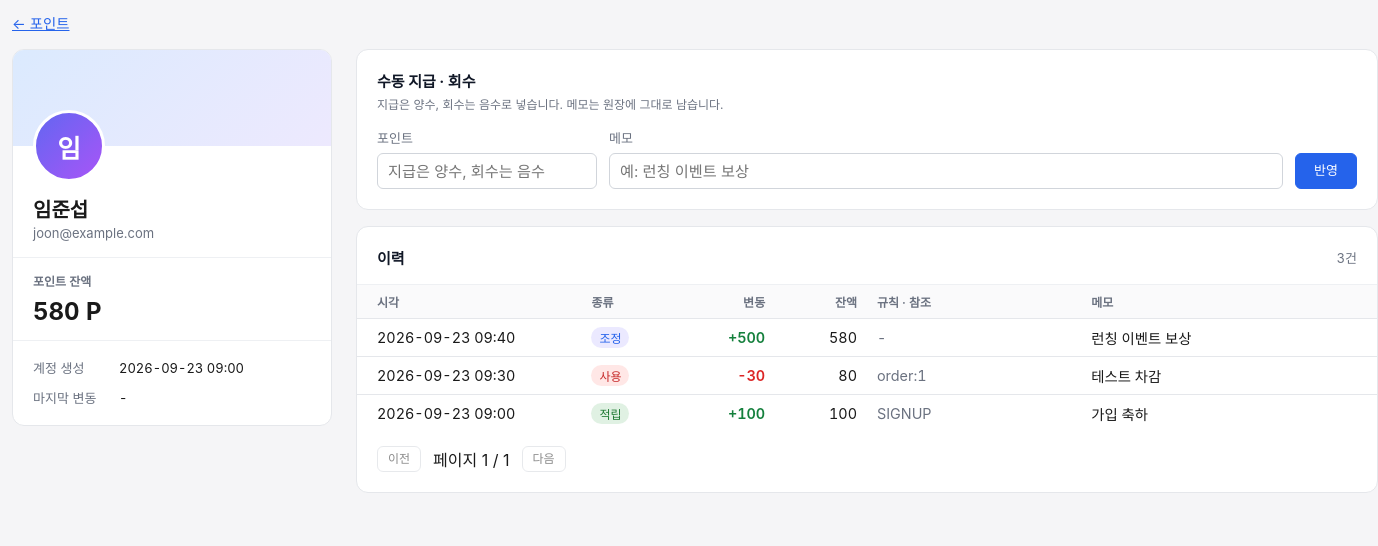
Test: PointAccountPage › adjusts points with a memo and refreshes
This screenshot has width=1378, height=546.
Check: the text "580 P" is shown, box [33,297,102,326]
In the number field labelled "포인트": (487, 171) [377,153,597,189], type "-200"
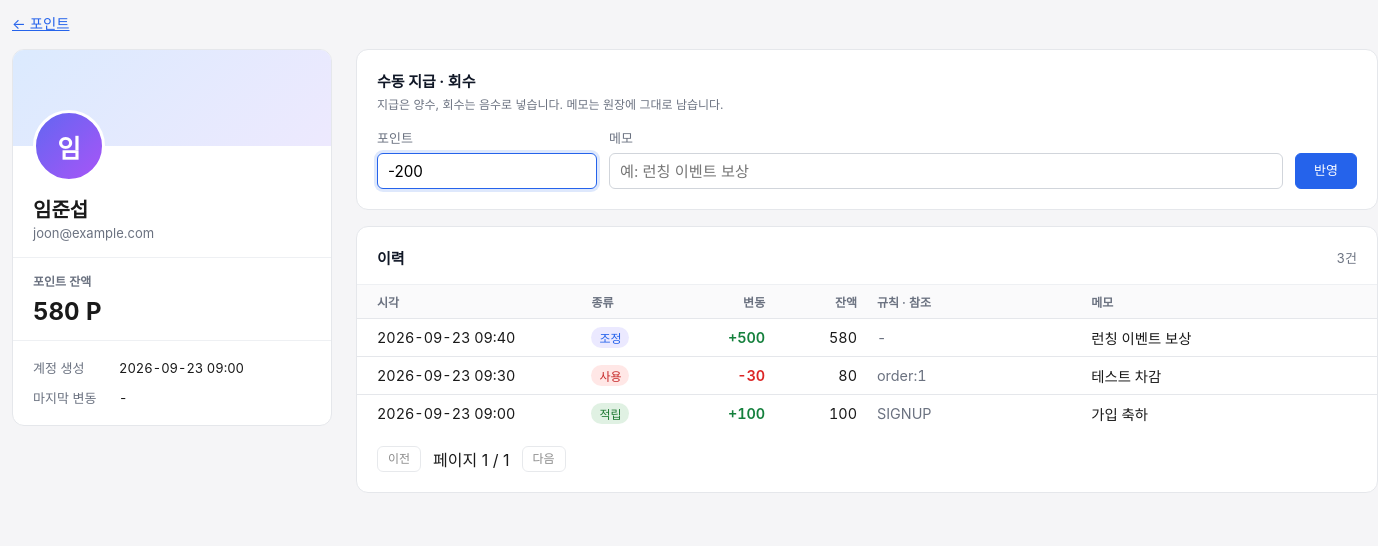
In the field labelled "메모": (946, 171) [609,153,1283,189], type "오지급 회수"
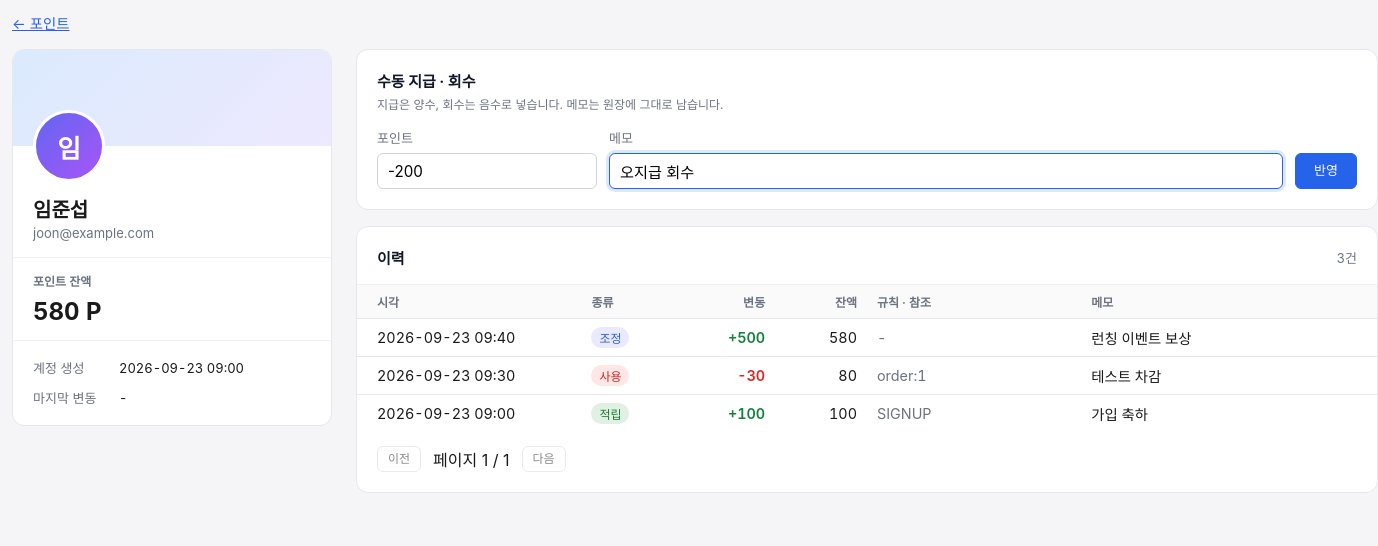
Click the button "반영": (1326, 171) [1295,153,1357,189]
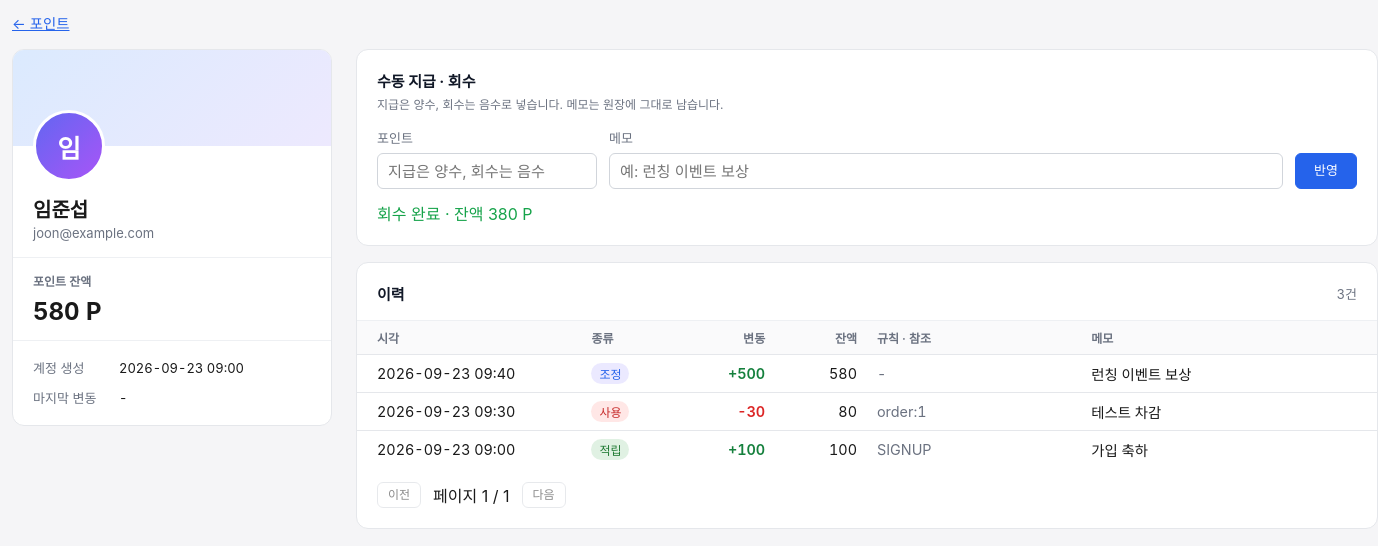
Check: the text "회수 완료 · 잔액 380 P" is shown, box [377,204,532,224]
